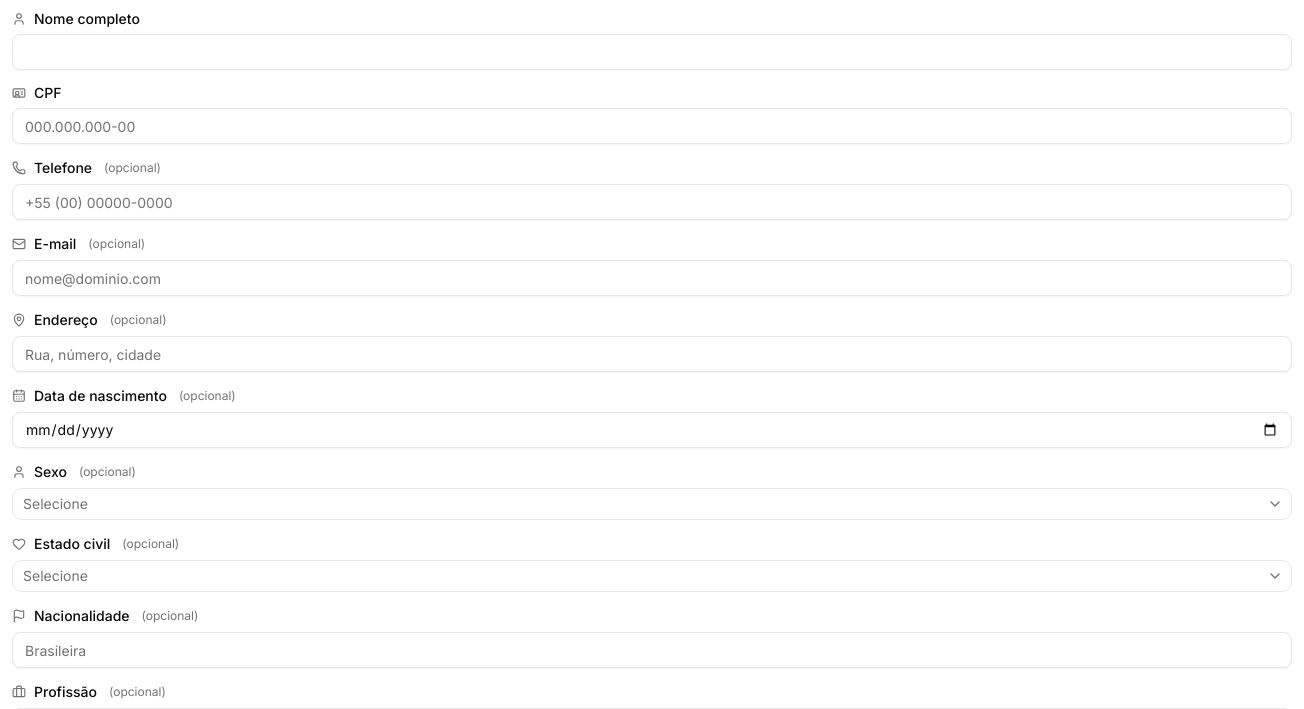
Test: ClienteForm › mascara CPF e telefone enquanto o usuário digita
The image size is (1304, 709).
Step 1. Type "12345678909" into the field labelled "CPF" → (652,126), box [12,108,1292,144]
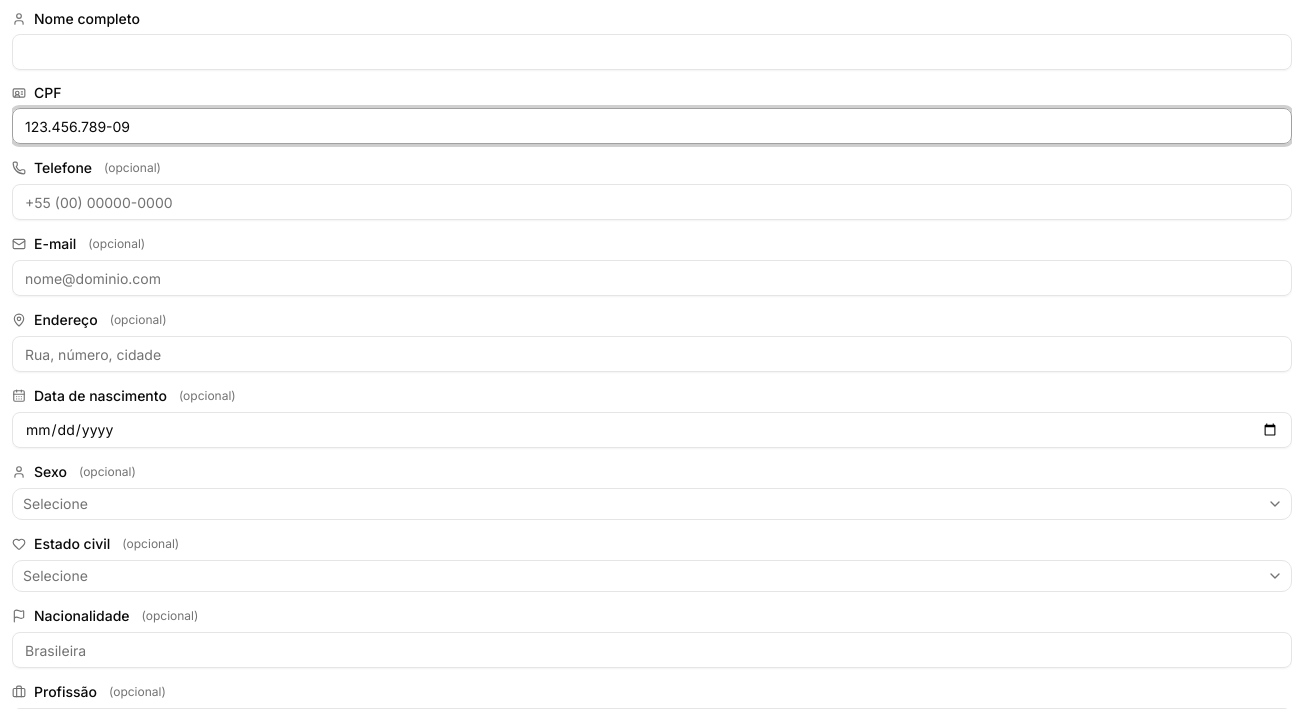
Step 2. Type "5547999998888" into the field labelled "Telefone (opcional)" → (652,202), box [12,184,1292,220]
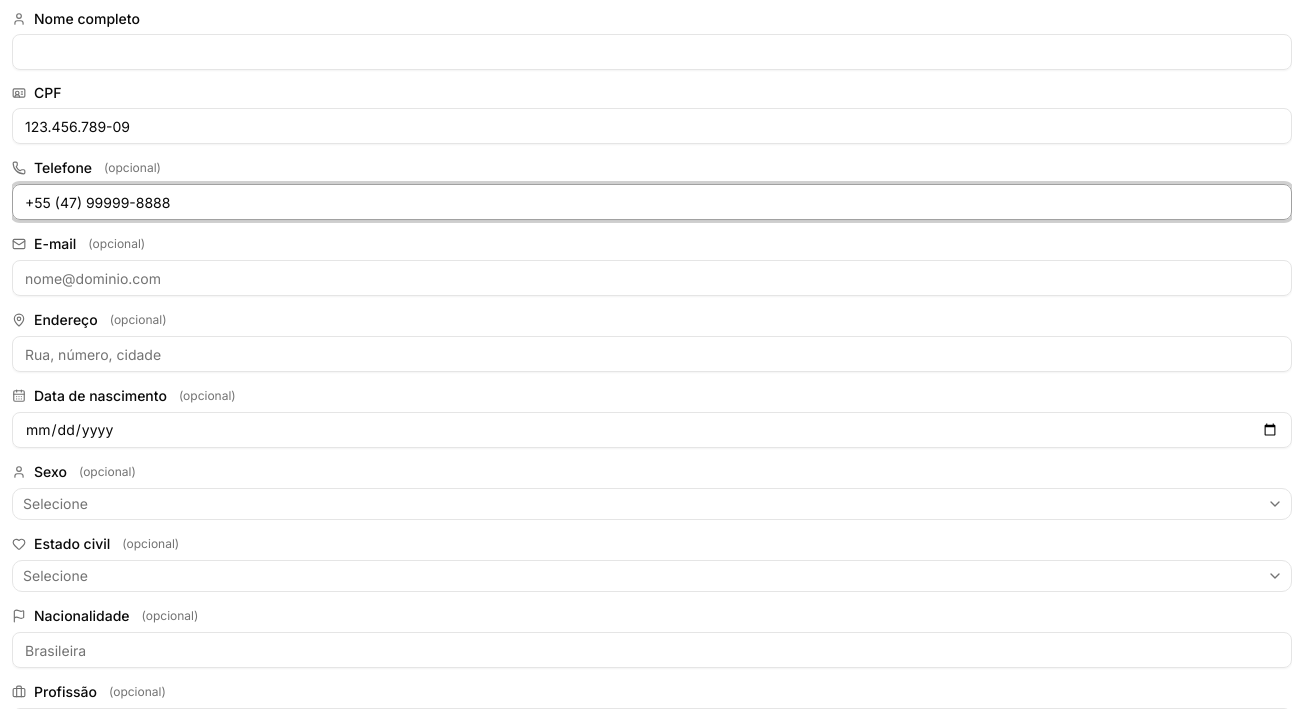
Result: the field labelled "CPF" holds "123.456.789-09" at [12,108,1292,144]
Result: the field labelled "Telefone (opcional)" holds "+55 (47) 99999-8888" at [12,184,1292,220]
